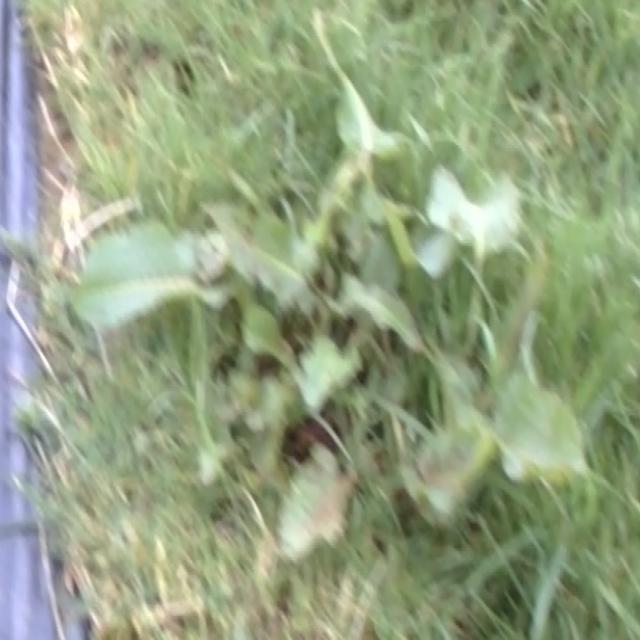organic waste: (199, 113, 596, 552), (42, 178, 290, 362)
